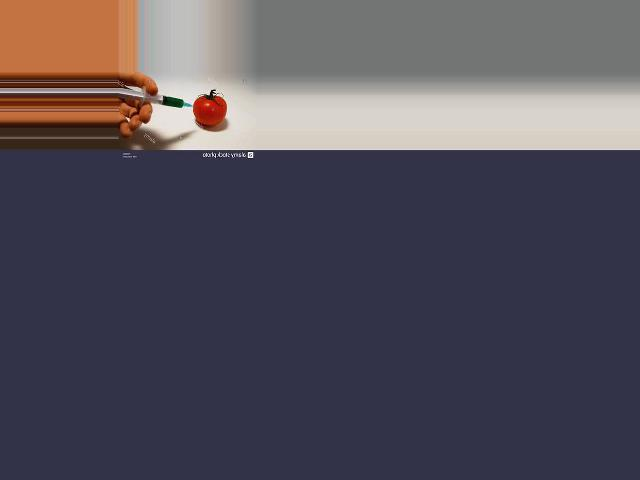tomato: (192, 96, 225, 126)
